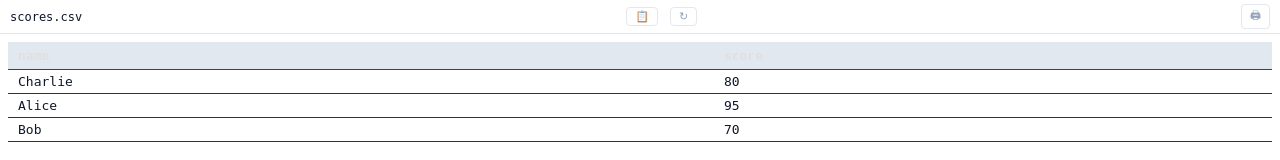
Editor — file type helpers (via render behaviour) › CSV table is sortable — clicking header sorts ascending then descending
Expected: the cell "Charlie" is shown, [8, 70, 714, 94]
Click the column heading "name" at (361, 56), box [8, 42, 714, 70]
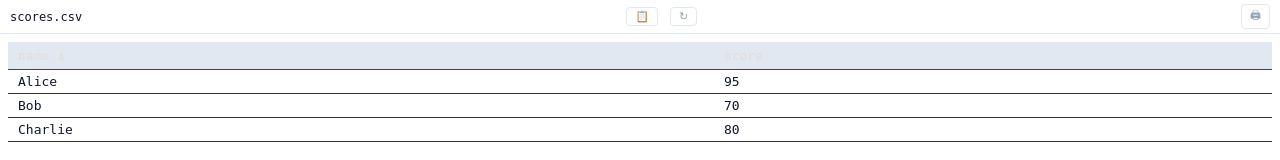
Expected: the cell "Alice" is shown, [8, 70, 714, 94]
Click the column heading "name ▲" at (361, 56), box [8, 42, 714, 70]
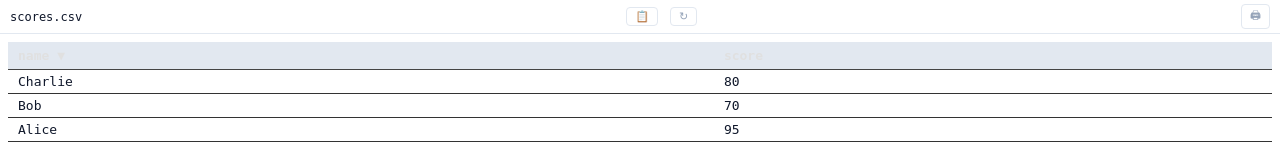
Expected: the cell "Charlie" is shown, [8, 70, 714, 94]
